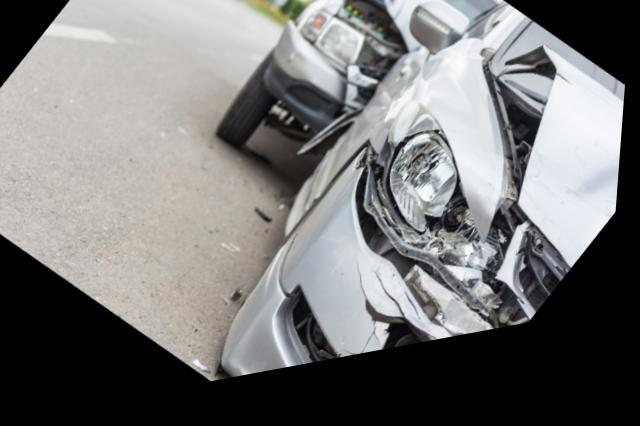crack: (360, 267, 445, 369), (385, 277, 438, 343)
dent: (521, 177, 624, 290)
dislocated part: (221, 158, 515, 388), (492, 68, 627, 341), (342, 0, 424, 73)
lamp broken: (374, 150, 502, 325)
